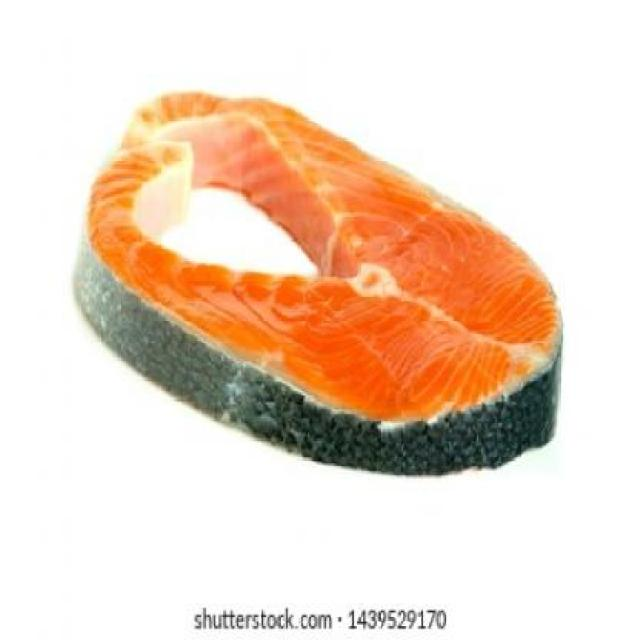salmon: (66, 69, 576, 481)
